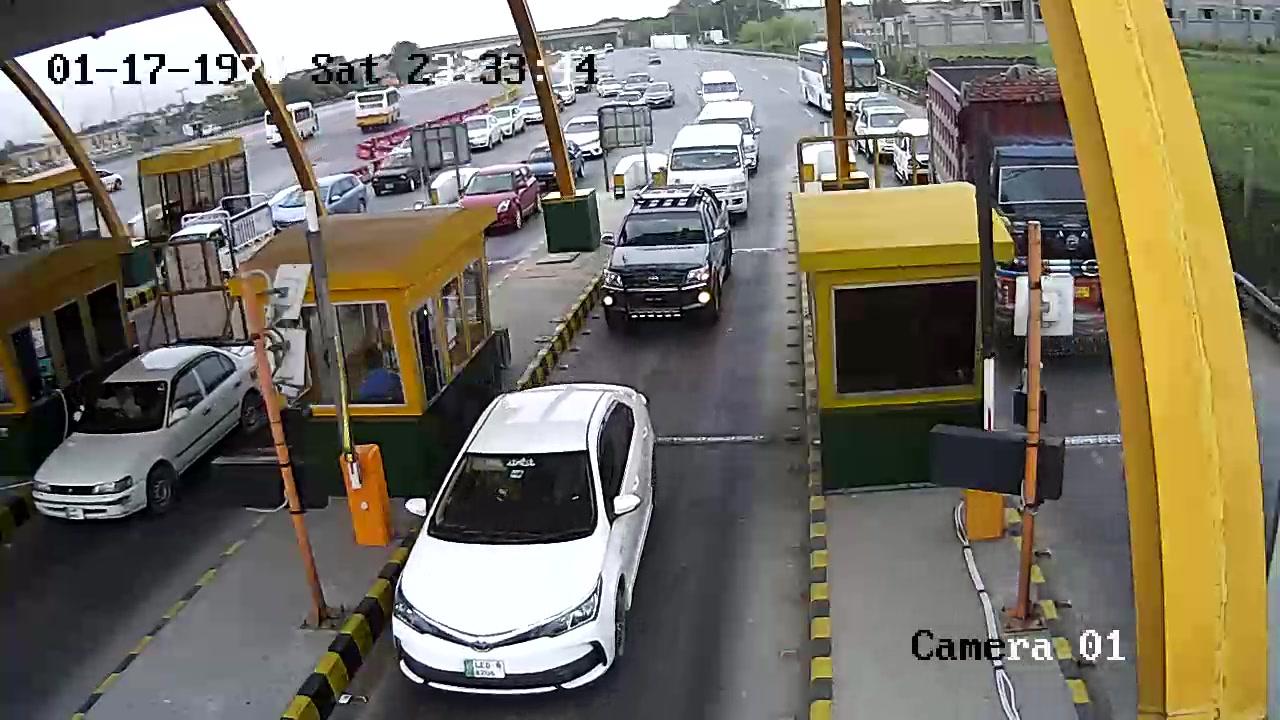F1: (592, 189, 743, 340)
